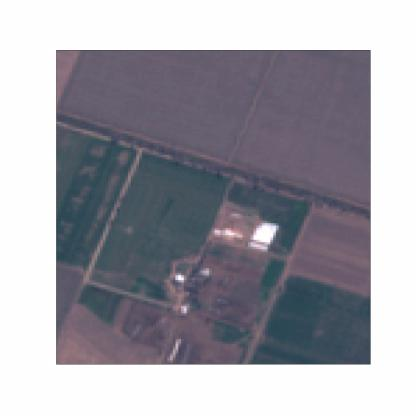silobolsa: (166, 337, 184, 362), (212, 228, 244, 238), (245, 240, 271, 252), (262, 220, 279, 232), (252, 234, 274, 241), (257, 228, 280, 234)
